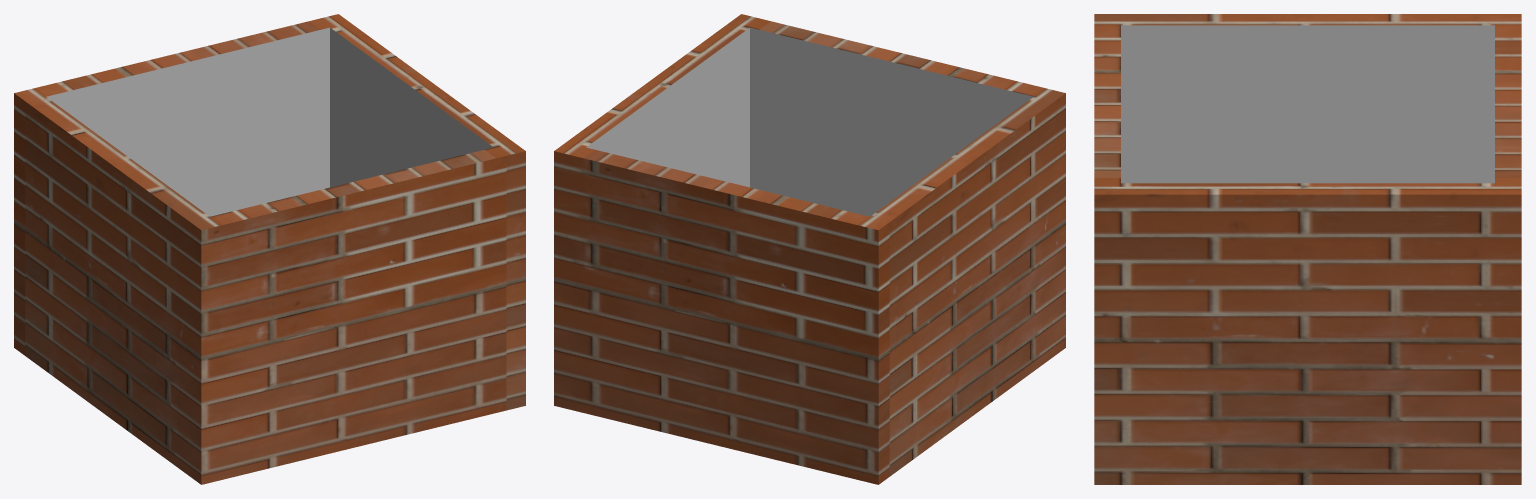
File: walls.obj
3 renders of one model, left to right at view 1: azimuth 30°, elevation 25°; view 2: azimuth 150°, elevation 25°; view 3: azimuth 270°, elevation 25°, orthographic. The views are drawn at different scales.
Parts seen in each view (by area): view 1: Cube; view 2: Cube; view 3: Cube.
Boxes of the visible parts, left/top/right/bottom form: Cube: left=14, top=14, right=525, bottom=484; Cube: left=554, top=14, right=1065, bottom=484; Cube: left=1094, top=14, right=1521, bottom=484.
Size of the model in its own units: 8 by 6 by 8.
